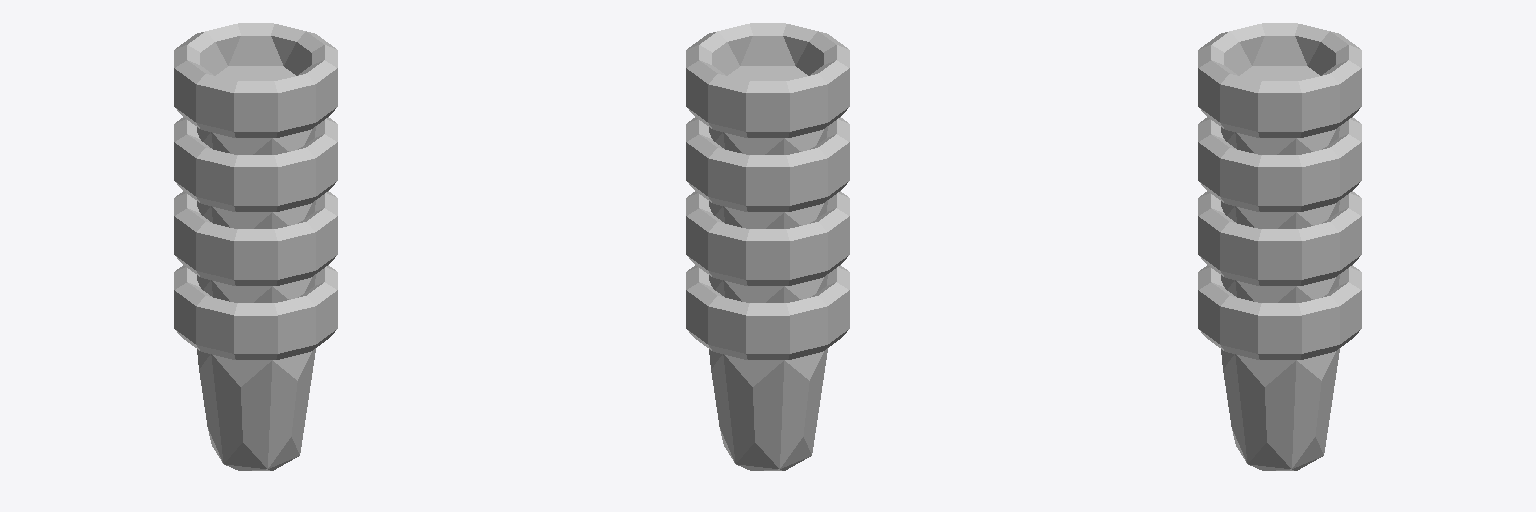
Rendered from icecream_cone_stacked.obj.
The picture shows the model from 3 angles: view 1: azimuth 30°, elevation 25°; view 2: azimuth 150°, elevation 25°; view 3: azimuth 270°, elevation 25°; orthographic projection.
Parts seen in each view (by area): view 1: icecream_cone_stacked_Cylinder.293; view 2: icecream_cone_stacked_Cylinder.293; view 3: icecream_cone_stacked_Cylinder.293.
Part boxes in pixels (bbox=[...]): icecream_cone_stacked_Cylinder.293: bbox=[174, 23, 337, 470]; icecream_cone_stacked_Cylinder.293: bbox=[686, 23, 849, 470]; icecream_cone_stacked_Cylinder.293: bbox=[1198, 23, 1361, 470].
Size of the model in its own units: 0.4 by 1.1 by 0.4.